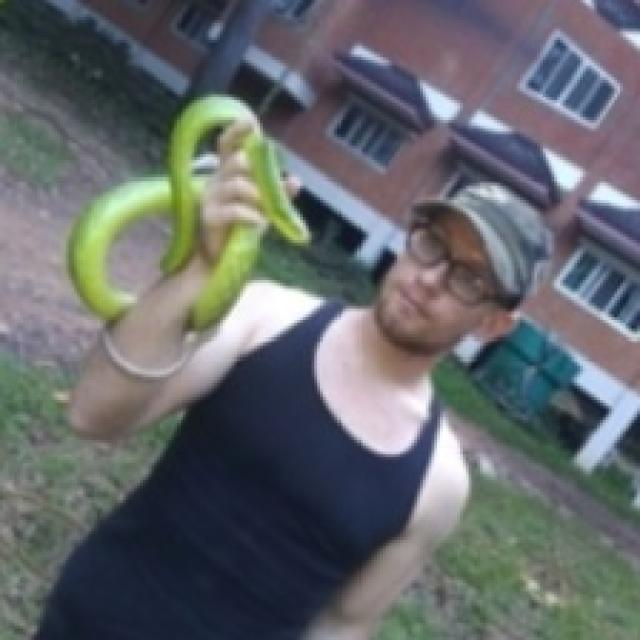red-tailed green ratsnake: (69, 94, 306, 320), (190, 228, 259, 329), (101, 331, 202, 381)
